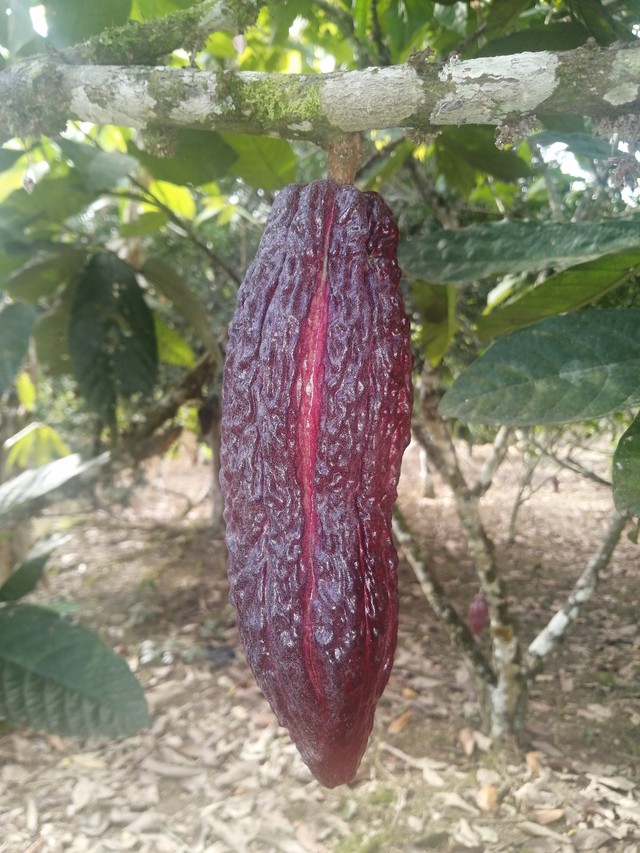Health: (213, 173, 423, 791)
